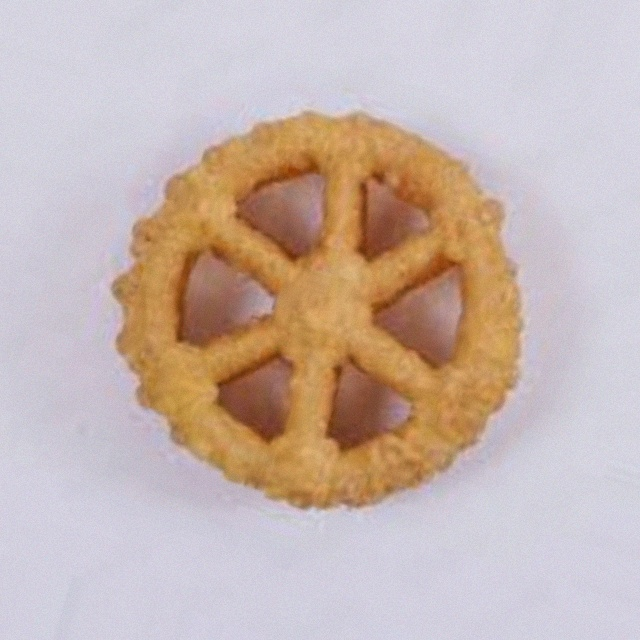Kokis: (125, 68, 515, 572)
